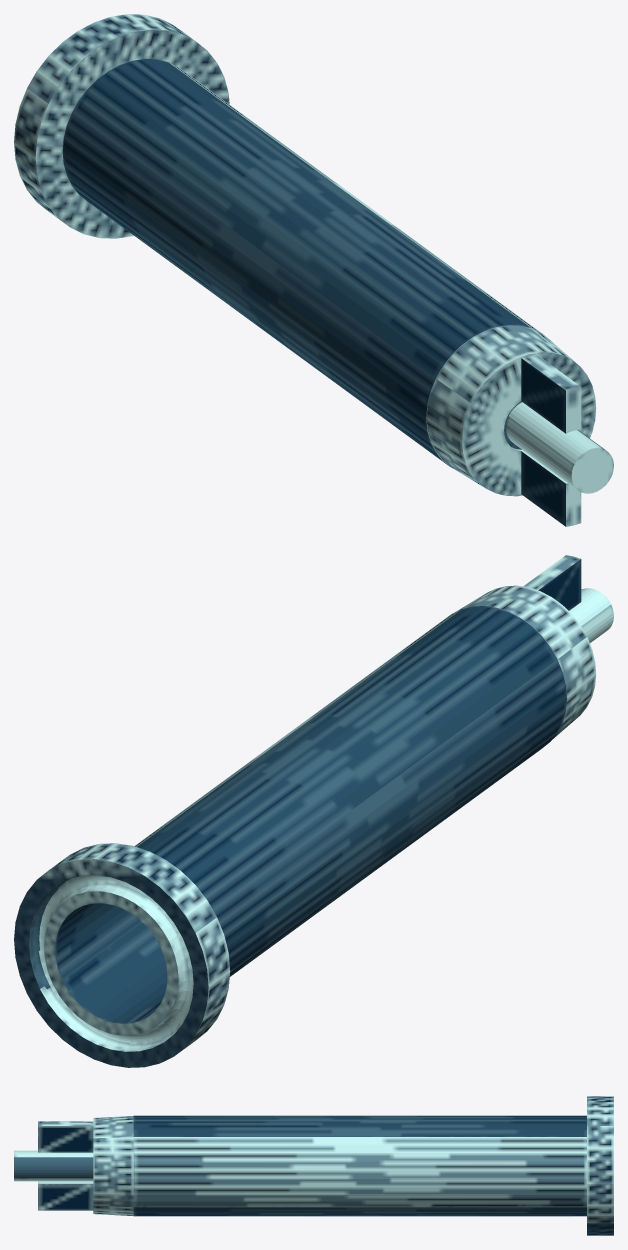
The model's file is Mold4-Ejector-M.glb.
The picture shows the model from 3 angles, top to bottom: view 1: azimuth 30°, elevation 25°; view 2: azimuth 150°, elevation 25°; view 3: azimuth 270°, elevation 25°; orthographic projection. The views are drawn at different scales.
Parts seen in each view (by area): view 1: GERGTGQ - noyau-2; view 2: GERGTGQ - noyau-2; view 3: GERGTGQ - noyau-2.
Boxes of the visible parts, <box> form: GERGTGQ - noyau-2: <box>14,14,613,526</box>; GERGTGQ - noyau-2: <box>14,555,613,1067</box>; GERGTGQ - noyau-2: <box>14,1096,613,1235</box>.
Bounding box in the file's own units: 0.9258 × 0.9258 × 3.97.
1 material, 1 textured.
